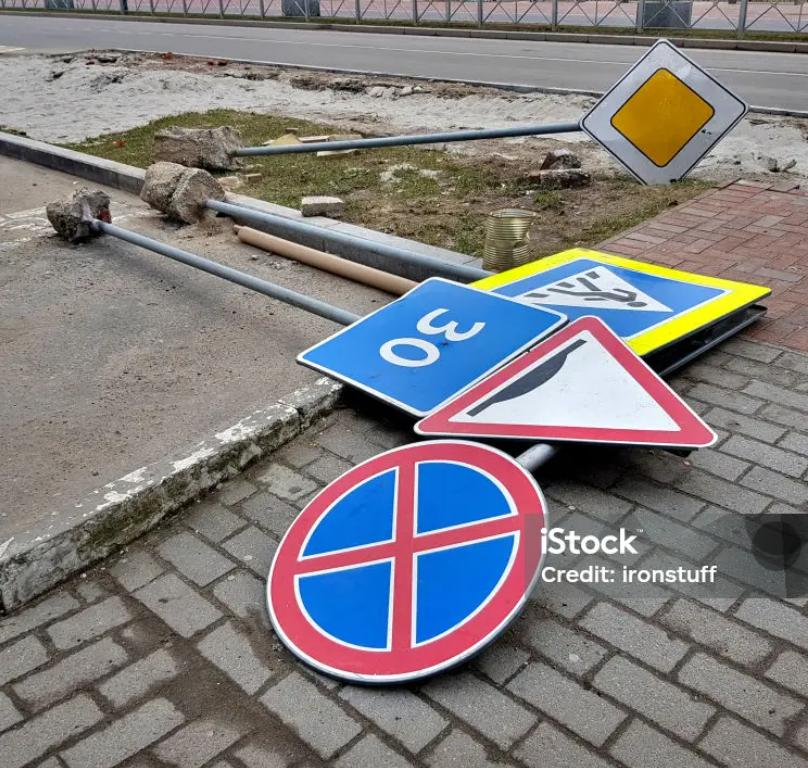road_sign: (265, 440, 548, 684), (413, 315, 719, 447), (297, 278, 567, 417), (468, 247, 771, 356), (578, 37, 747, 187)
